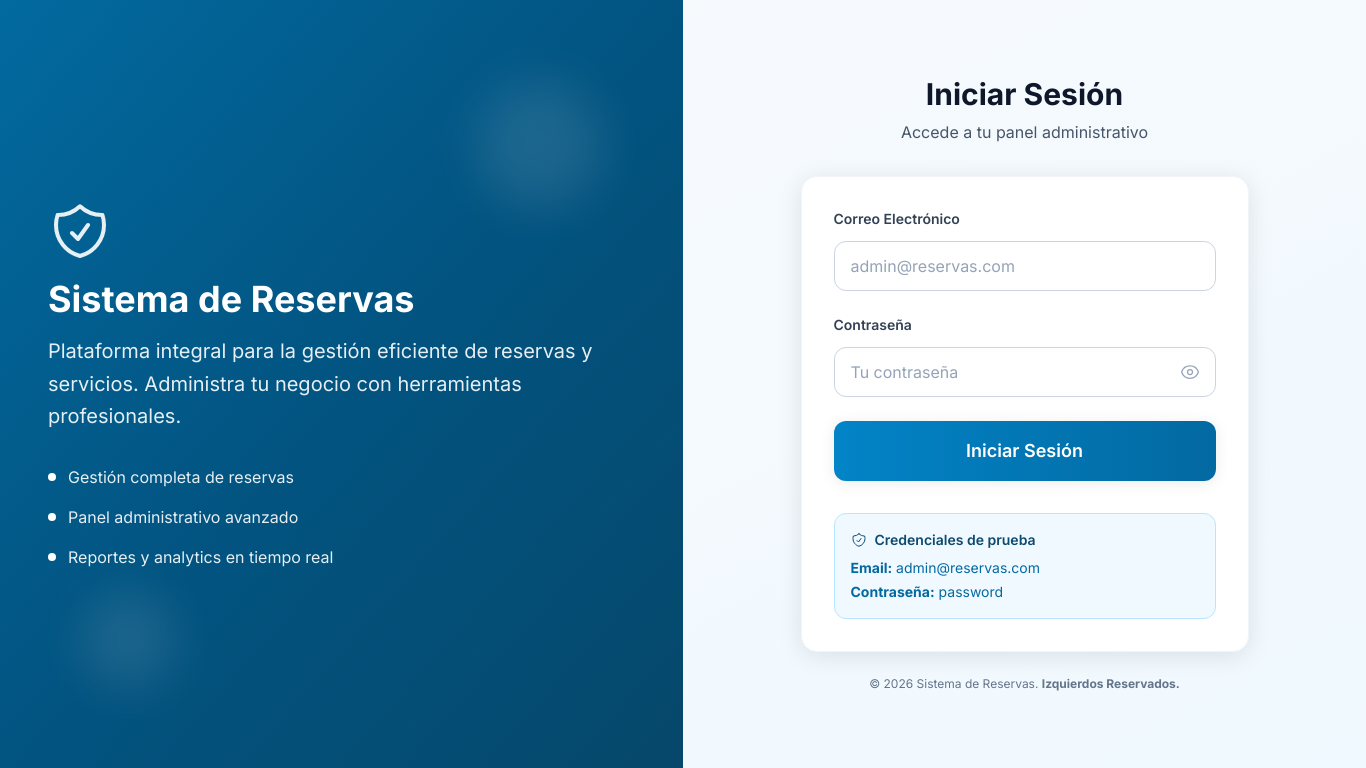
Scenario: inicio de sesión › valida los campos obligatorios antes de enviar
What coordinates should you click on to do the following:
click the button "Iniciar Sesión"
I would click on:
 (1024, 451)
Its box is [834,421,1216,481].
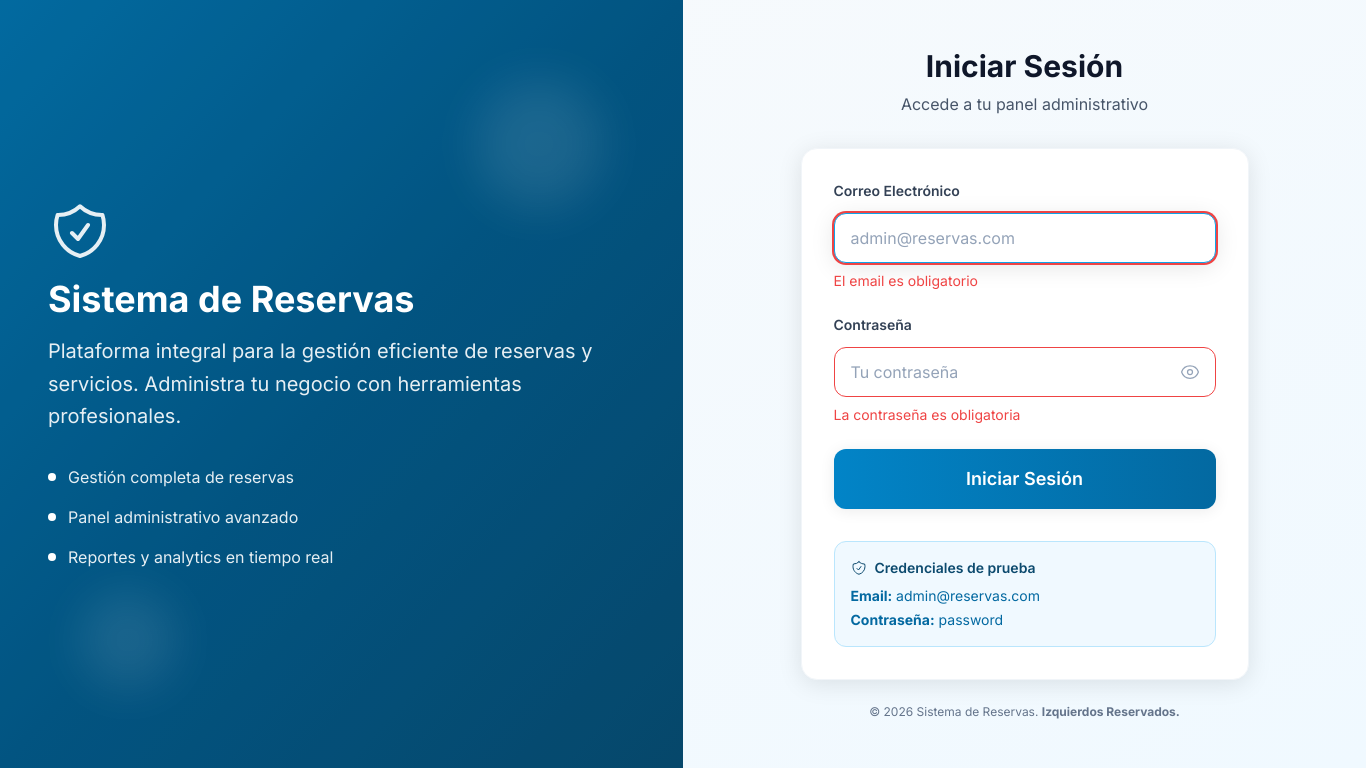
Expected: the text "El email es obligatorio" is shown, [834,272,978,289]
Expected: the text "La contraseña es obligatoria" is shown, [834,406,1020,423]
